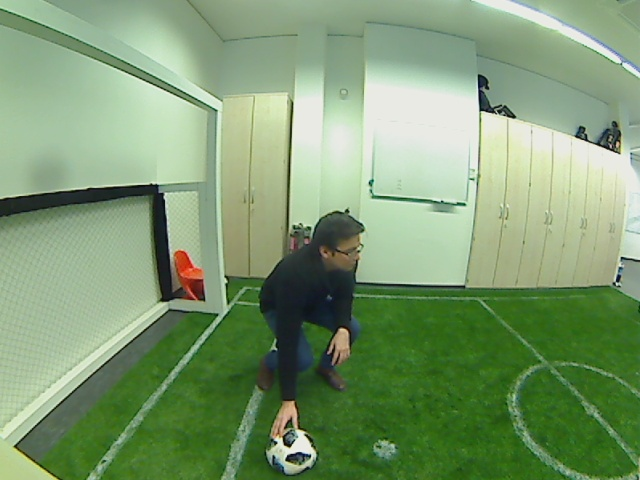ball: (264, 424, 321, 476)
